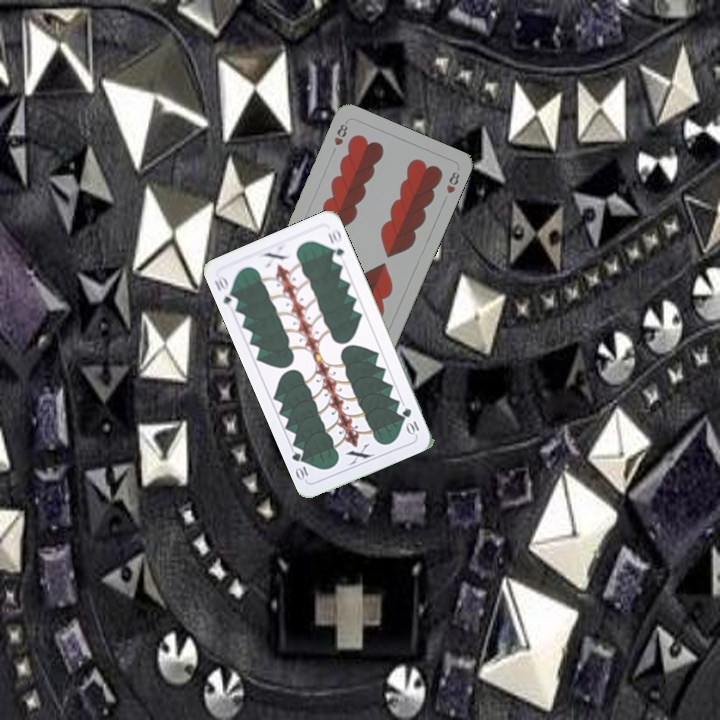G10: (210, 271, 241, 312), (398, 404, 422, 437)
H8: (330, 117, 350, 148)
